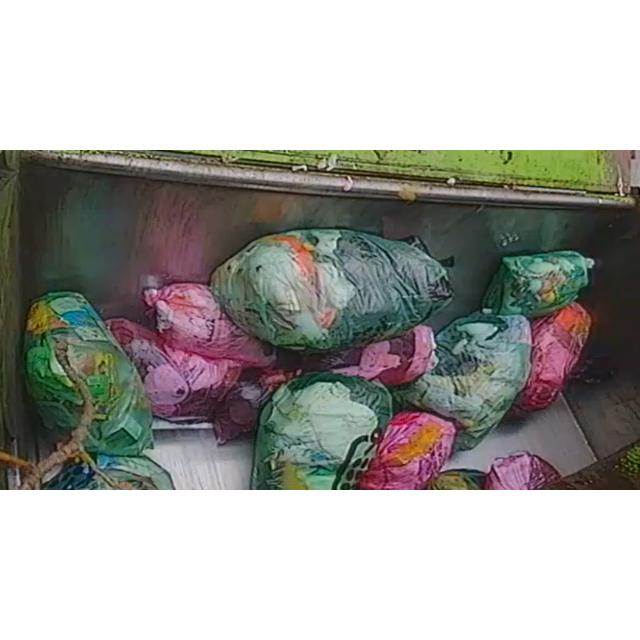general_trashbag: (210, 229, 454, 350), (25, 291, 154, 456), (391, 312, 531, 449), (252, 372, 392, 488), (482, 251, 594, 317)
other_trashbag: (144, 282, 276, 367)
